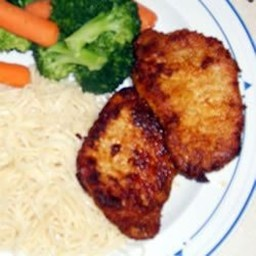background: (0, 0, 98, 102)
